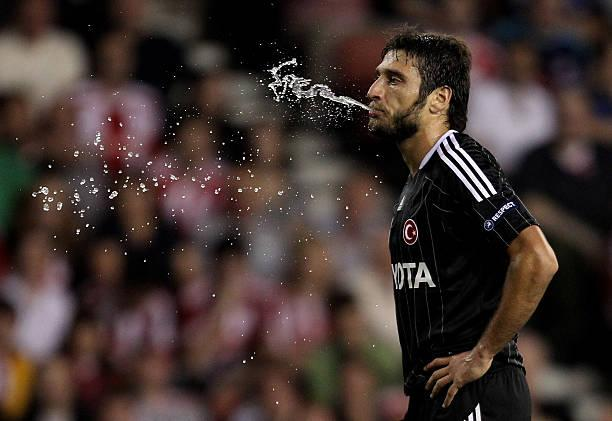Spitting: (223, 20, 513, 155)
